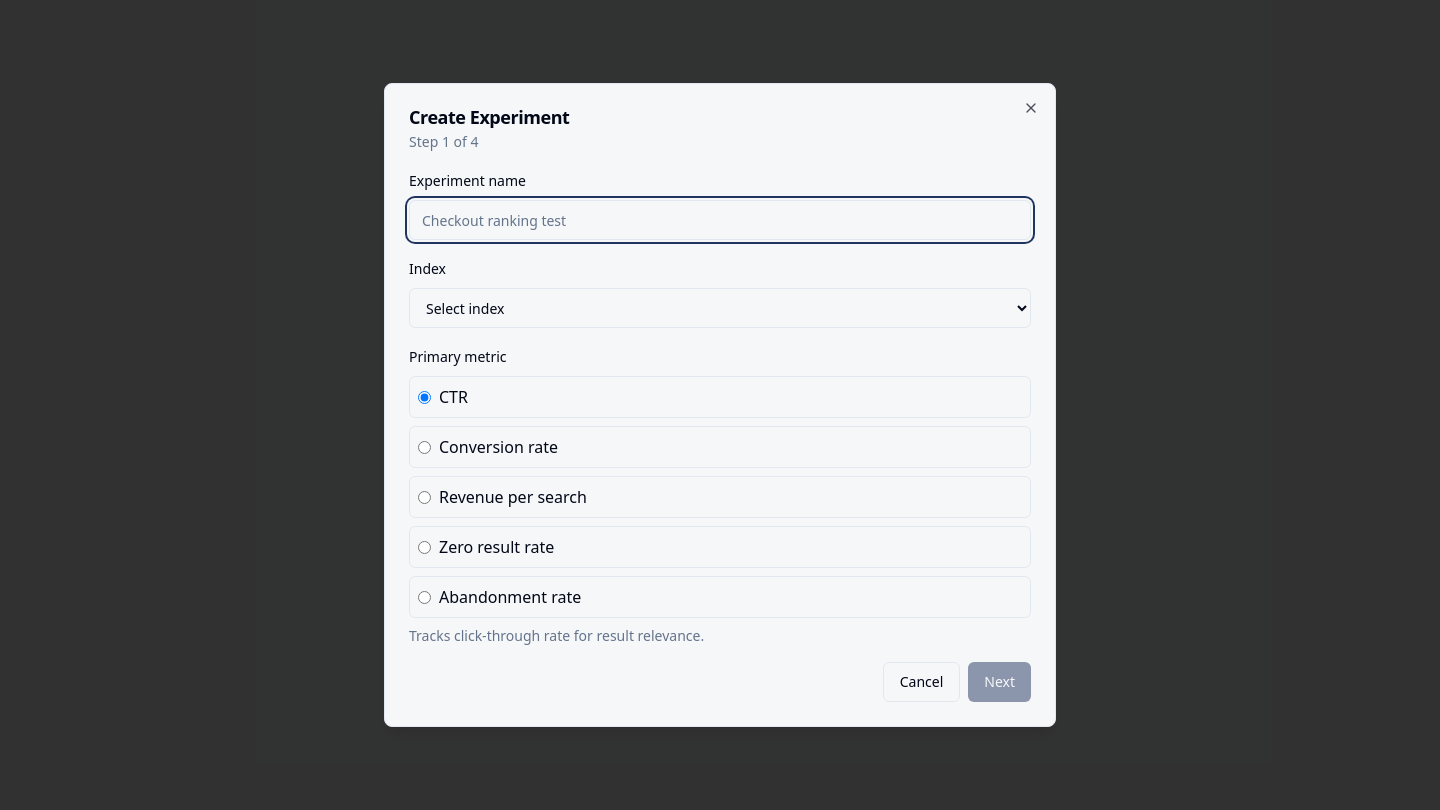
Test: CreateExperimentDialog › step 1: selecting CTR metric shows description text
What coordinates should you click on to do the following:
click the radio button with test id "metric-conversion-rate"
I would click on:
 (424, 447)
Its box is x1=418 y1=440 x2=431 y2=454.
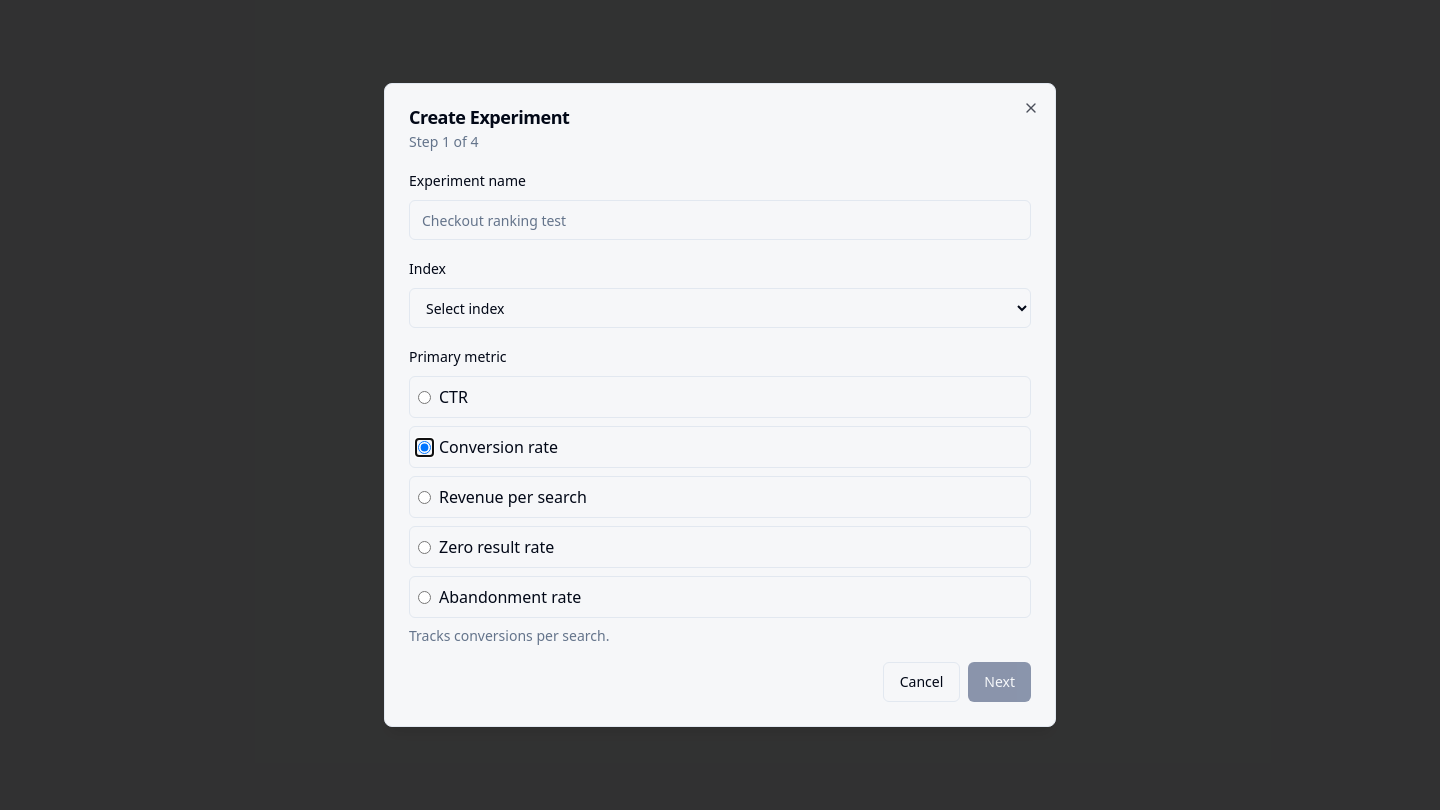
Expected: the text "Tracks conversions per search." is shown, x1=409 y1=626 x2=609 y2=645
What coordinates should you click on to do the following:
click the radio button with test id "metric-ctr"
I would click on:
 (424, 397)
Its box is x1=418 y1=390 x2=431 y2=404.
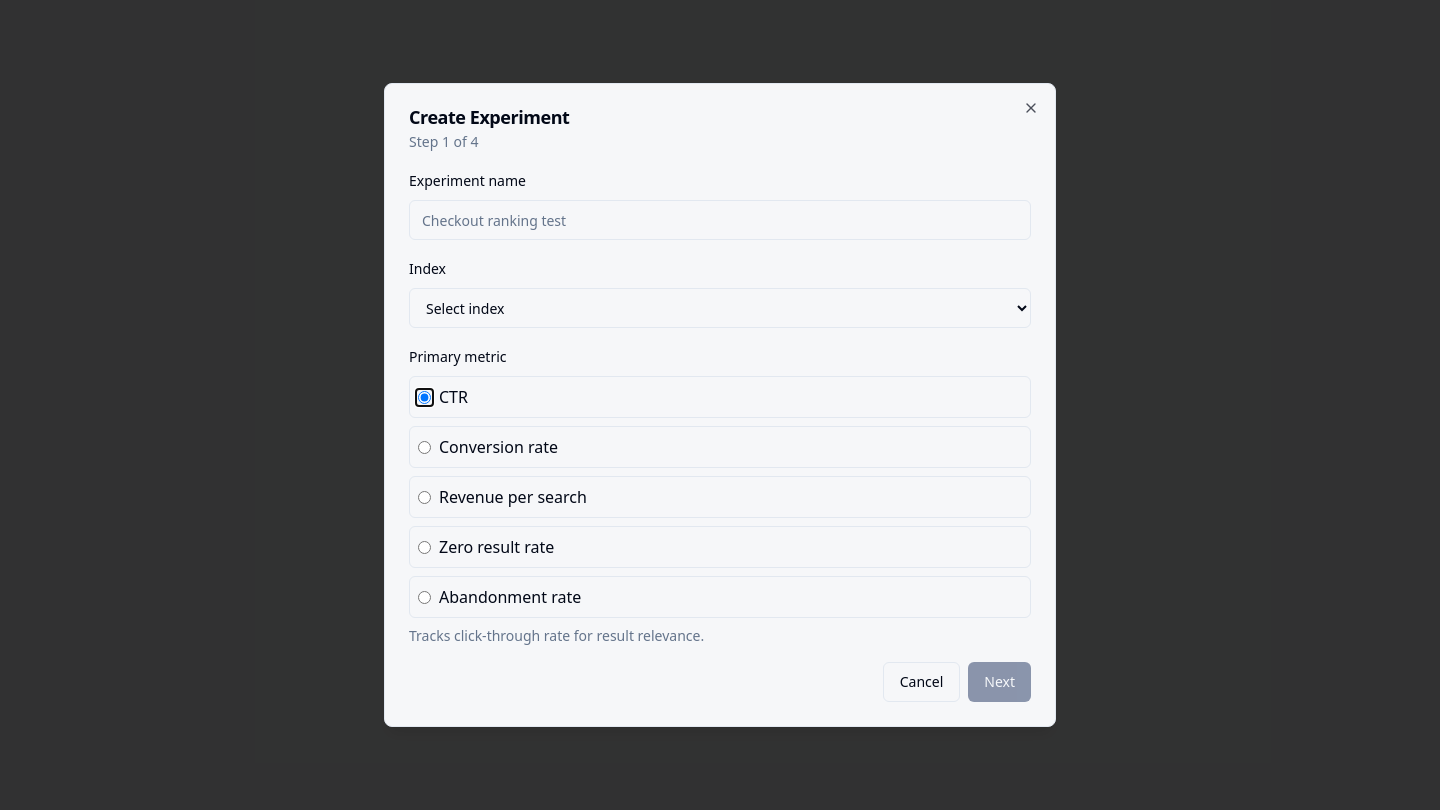
Expected: the text "Tracks click-through rate for result relevance." is shown, x1=409 y1=626 x2=704 y2=645
